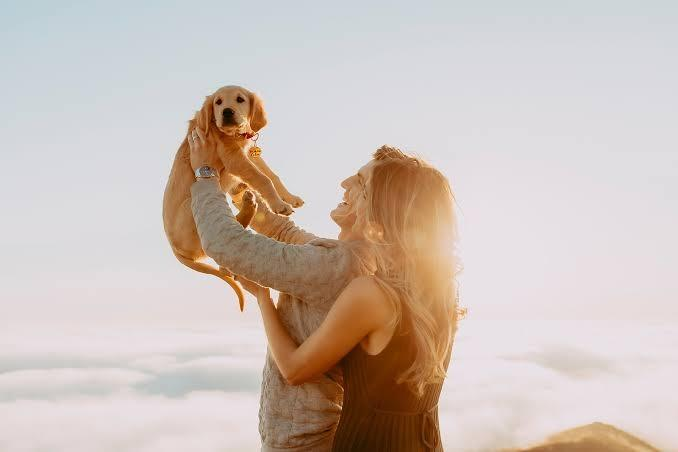non-dog: (187, 123, 419, 452), (228, 153, 466, 452)
puppy-dog: (162, 84, 305, 310)
